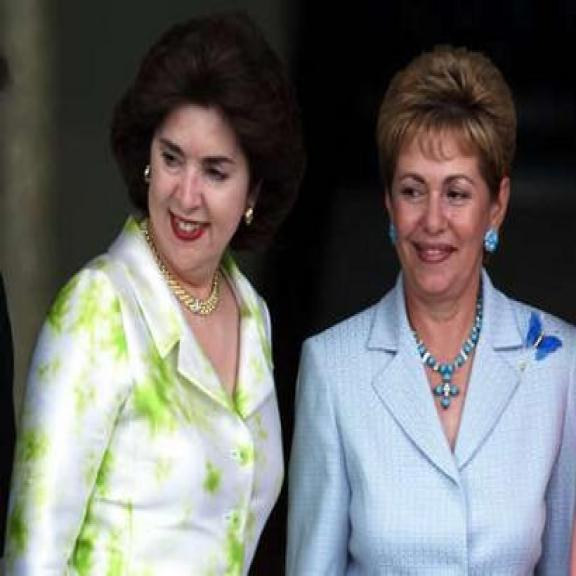face: (382, 137, 511, 300), (146, 106, 260, 276)
